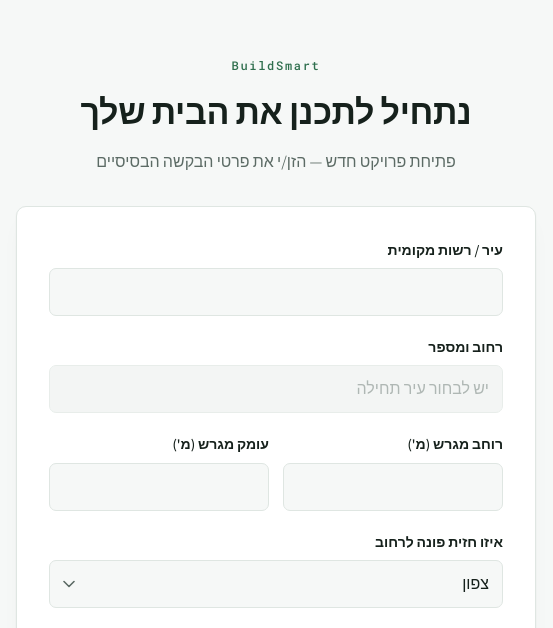
Scenario: one-storey footprint semantics on the form › warns while the value is being typed, not three screens later
This screenshot has width=553, height=628.
Type "תל אביב" into the dropdown labelled "עיר / רשות מקומית" at (276, 292), box [49,268,503,316]
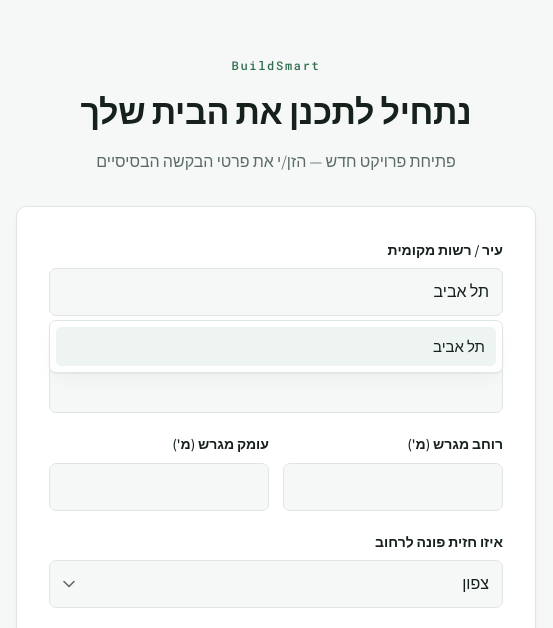
Expected: the dropdown labelled "רחוב ומספר" is enabled
Type "הרצל 1" into the dropdown labelled "רחוב ומספר" at (276, 389), box [49,365,503,413]
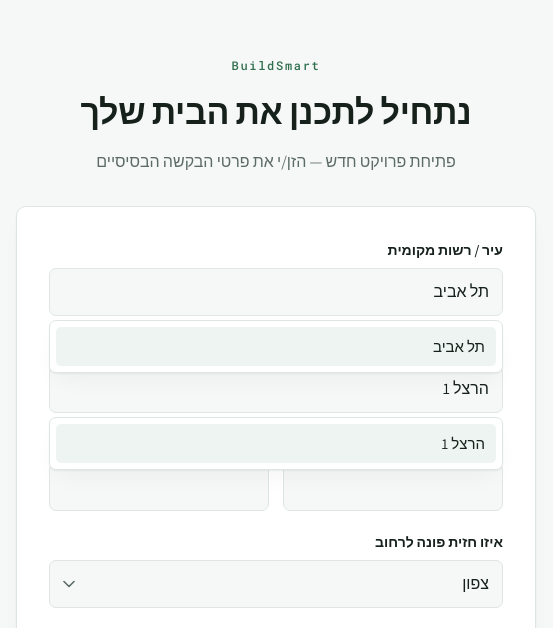
Type "15" into the number field labelled "רוחב מגרש (מ')" at (393, 487), box [283,463,503,511]
Type "20" into the number field labelled "עומק מגרש (מ')" at (159, 487), box [49,463,269,511]
(page scrolled)
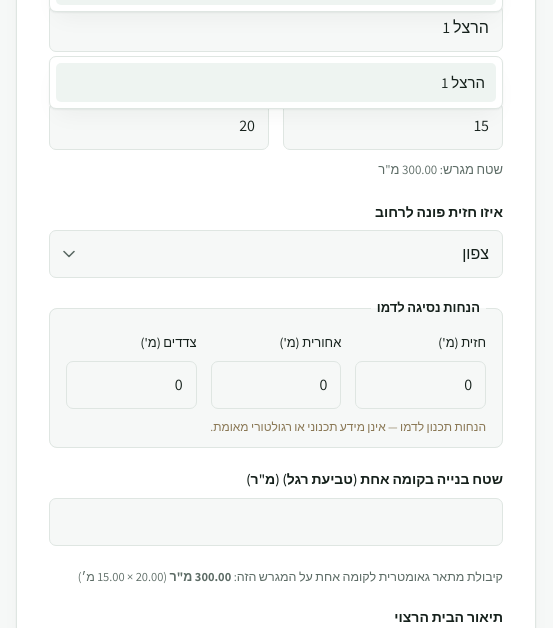
Replace the text in the number field labelled "חזית (מ')" with "5.5" at (421, 384), box [355,360,486,408]
Replace the text in the number field labelled "צדדים (מ')" with "3" at (131, 384), box [66,360,197,408]
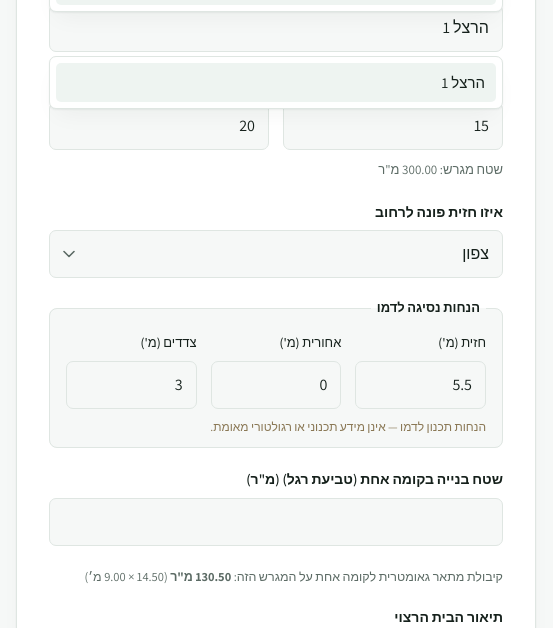
Replace the text in the number field labelled "אחורית (מ')" with "4" at (276, 384), box [211,360,341,408]
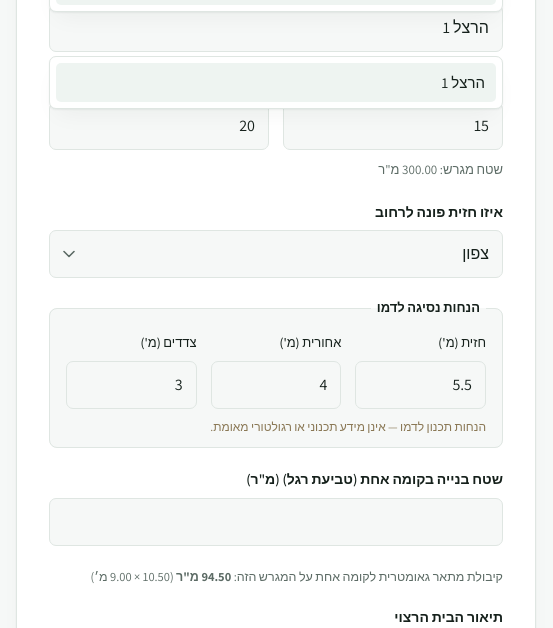
Type "250" into the number field labelled "שטח בנייה בקומה אחת (טביעת רגל) (מ\"ר)" at (276, 522), box [49,498,503,546]
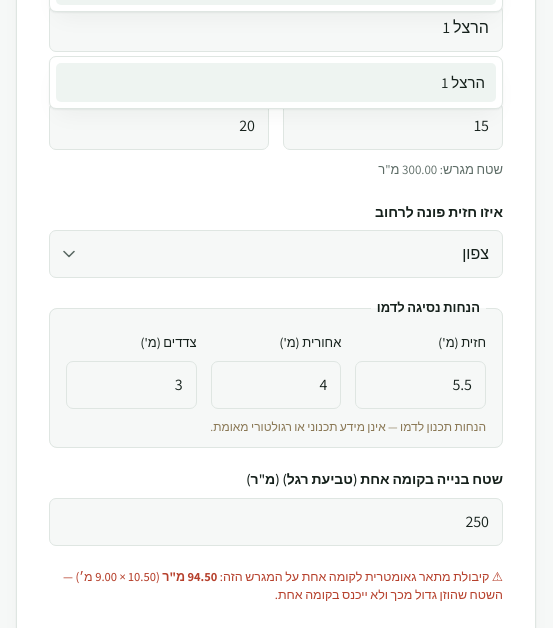
Expected: the text "השטח שהוזן גדול מכך ולא ייכנס בקומה אחת" is shown, [63,568,503,604]
